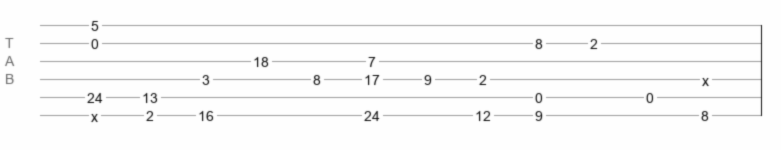0: (91, 36, 99, 46), (535, 90, 543, 100), (646, 90, 654, 100)
12: (475, 108, 491, 118)
13: (142, 90, 158, 100)
16: (198, 108, 214, 118)
17: (364, 72, 380, 82)
18: (253, 54, 269, 64)
2: (146, 108, 154, 118), (479, 72, 487, 82), (590, 36, 598, 46)
24: (87, 90, 103, 100), (364, 108, 380, 118)
3: (202, 72, 210, 82)
5: (91, 18, 99, 28)
7: (368, 54, 376, 64)
8: (313, 72, 321, 82), (535, 36, 543, 46), (701, 108, 709, 118)
9: (424, 72, 432, 82), (535, 108, 543, 118)
x: (91, 109, 98, 117), (702, 73, 709, 81)
